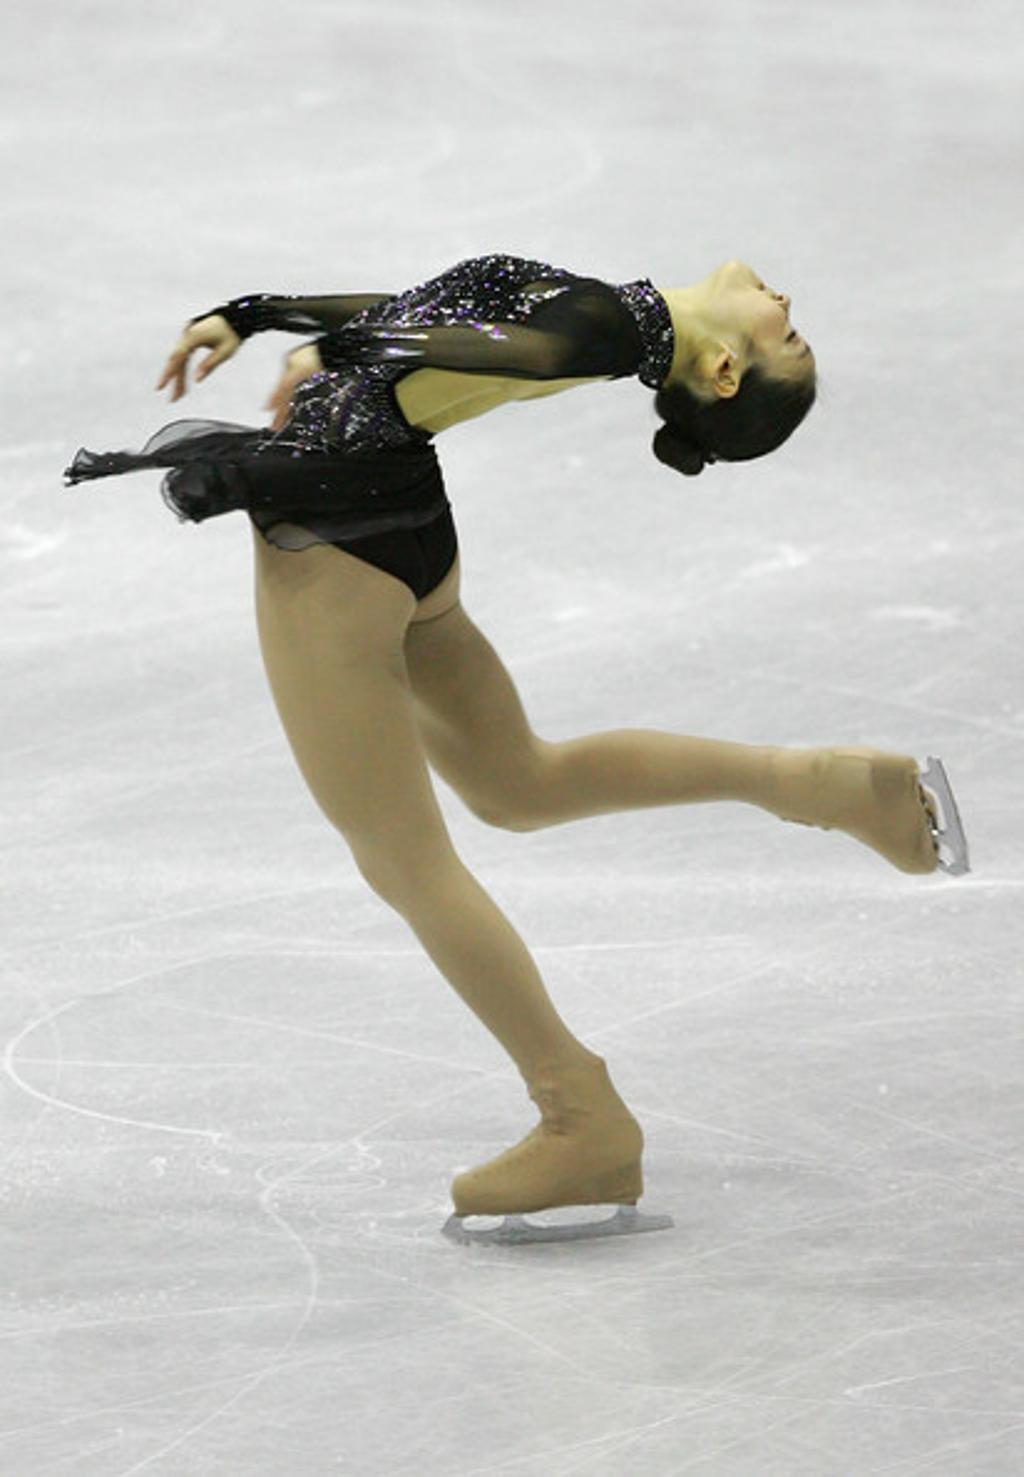face: (711, 263, 818, 378)
